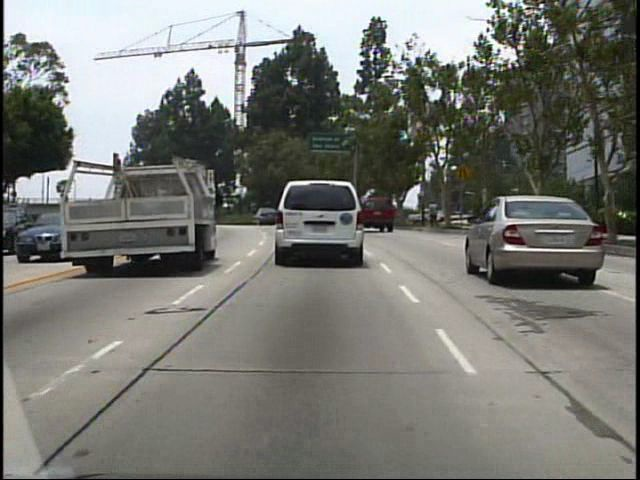person: (428, 195, 441, 229)
